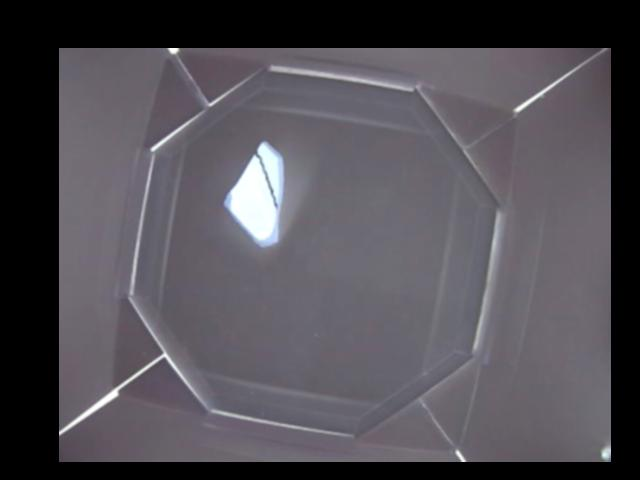China: (222, 140, 287, 246)
